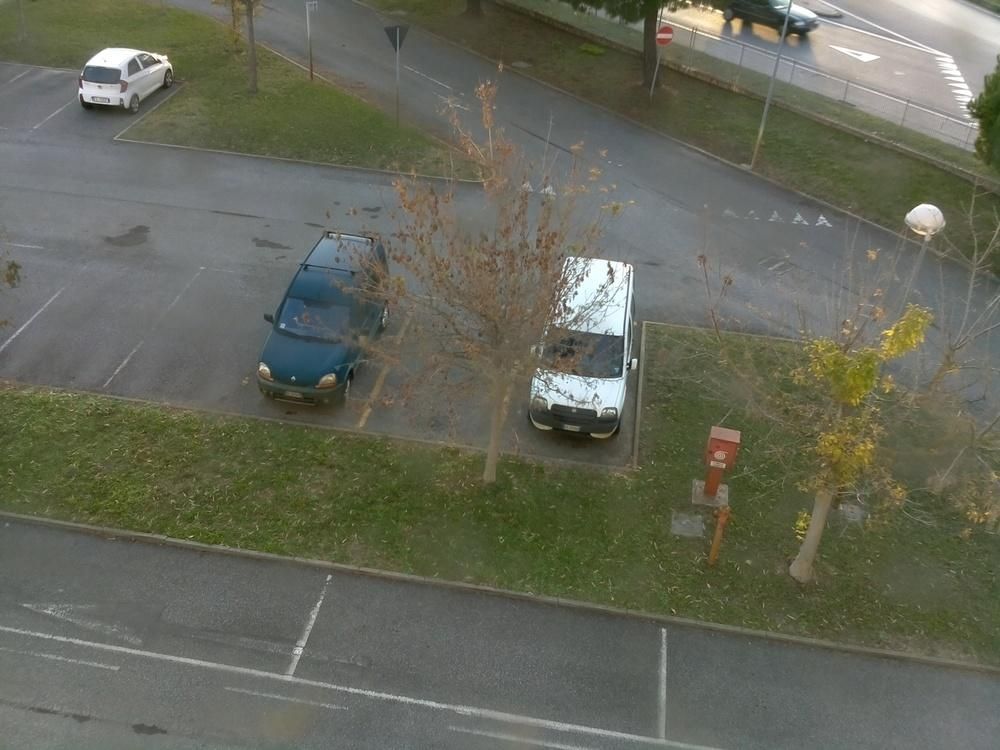empty: (252, 241, 410, 407), (521, 258, 636, 443), (67, 47, 181, 117)
occupied: (375, 600, 590, 700), (729, 656, 917, 750), (70, 549, 256, 640), (391, 330, 511, 456), (152, 325, 253, 391), (5, 82, 62, 114)
